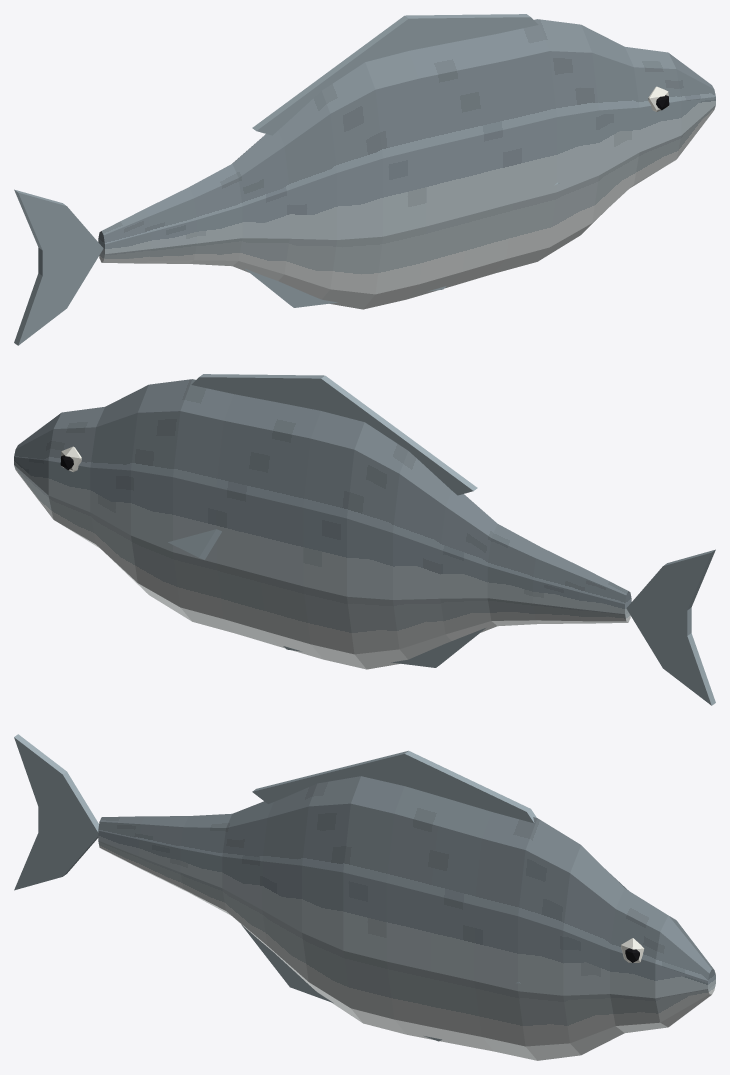
Rendered from silver_sweep.glb.
3 views of the same model, one above another, from view 1: azimuth 30°, elevation 25°; view 2: azimuth 150°, elevation 25°; view 3: azimuth 330°, elevation 25° (orthographic).
Visible parts, largest first — view 1: fish_silver_sweep; view 2: fish_silver_sweep; view 3: fish_silver_sweep.
Part boxes in pixels (bbox=[...]): fish_silver_sweep: bbox=[14, 14, 715, 345]; fish_silver_sweep: bbox=[14, 374, 715, 705]; fish_silver_sweep: bbox=[14, 734, 715, 1060].
Size of the model in its own units: 1.14 by 0.4423 by 0.1417.
Materials: 4 (1 with a texture image).
